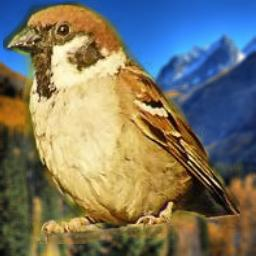Sparrow: (3, 1, 240, 244)
